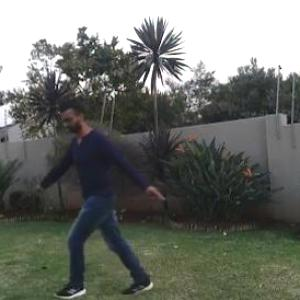land: (35, 90, 172, 299)
